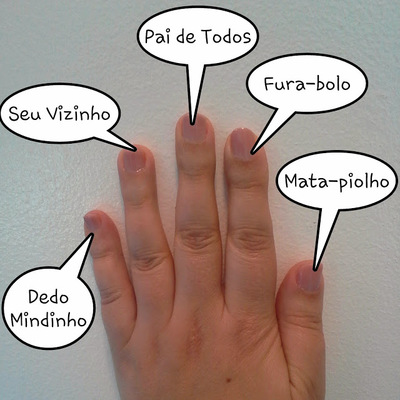mindinho: (75, 200, 133, 348)
